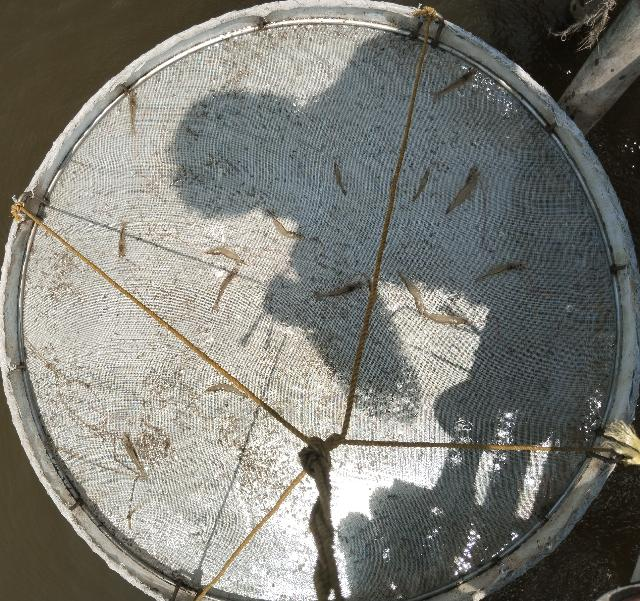shrimp: (429, 67, 480, 103), (446, 165, 478, 215), (212, 266, 240, 314), (397, 271, 424, 317), (122, 433, 149, 477), (266, 209, 305, 238), (314, 282, 365, 302), (474, 263, 526, 282), (423, 305, 471, 325), (203, 247, 249, 267), (204, 383, 249, 399), (412, 167, 430, 202), (118, 220, 129, 261), (334, 162, 347, 196), (129, 90, 137, 134)
